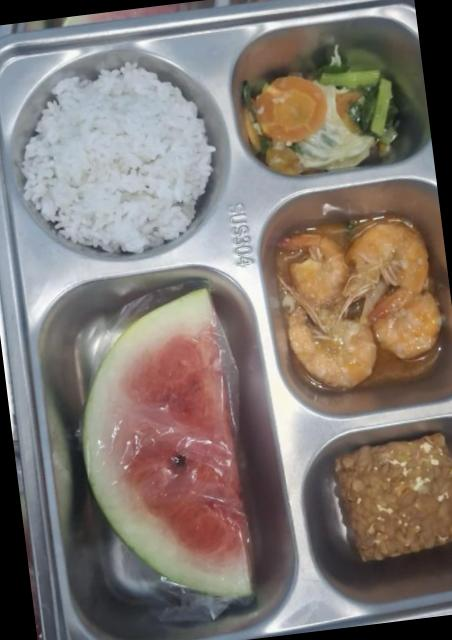buah: (82, 289, 252, 601)
nasi: (22, 62, 214, 253)
sayur: (234, 16, 430, 175)
tempe: (335, 433, 451, 561)
